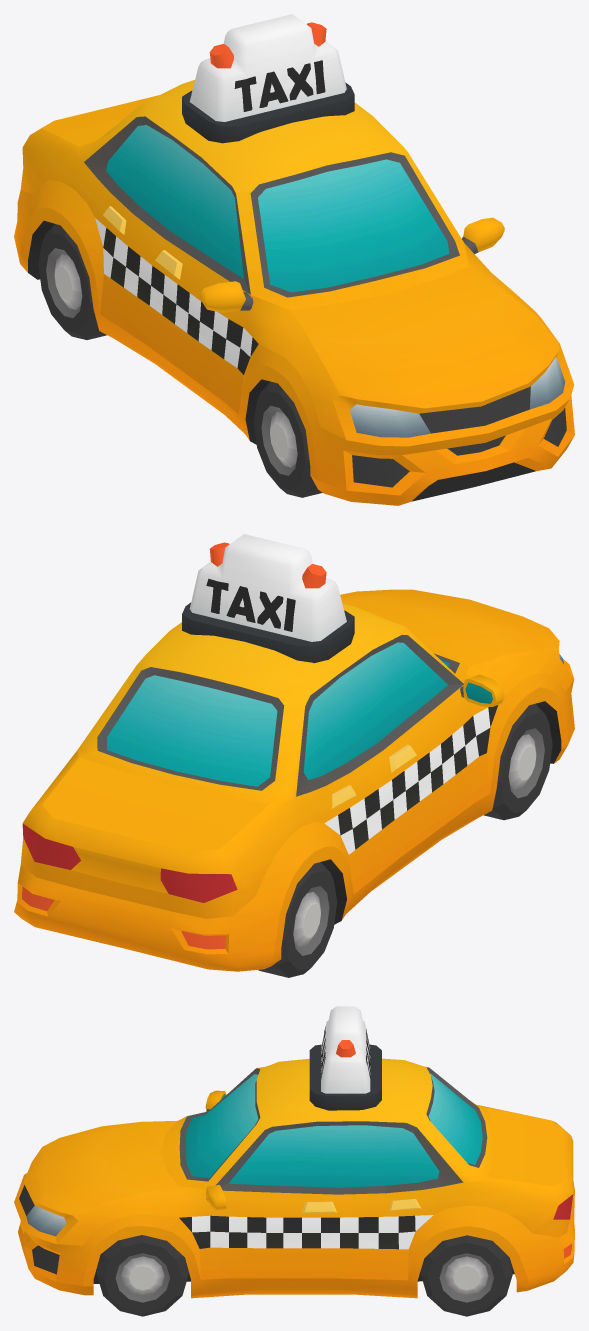
File: car.glb
3 renders of one model, top to bottom at view 1: azimuth 30°, elevation 25°; view 2: azimuth 150°, elevation 25°; view 3: azimuth 270°, elevation 25°, orthographic. The views are drawn at different scales.
Visible parts, largest first — view 1: Wheel_001_R_Front; view 2: Wheel_001_R_Front; view 3: Wheel_001_R_Front.
Boxes of the visible parts, x1,y1,x2,y2 form: Wheel_001_R_Front: (14, 14, 574, 505); Wheel_001_R_Front: (14, 534, 574, 977); Wheel_001_R_Front: (14, 1006, 574, 1316).
Size of the model in its own units: 2.43 by 2.62 by 5.19.
Materials: 1 (1 with a texture image).
